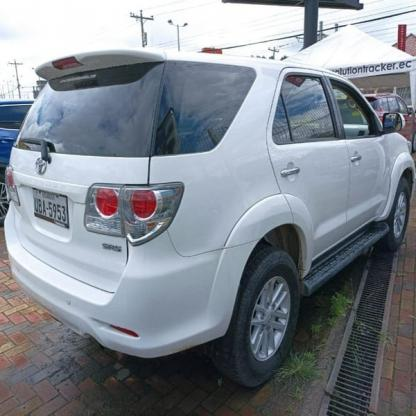Placa: (25, 184, 80, 230)
